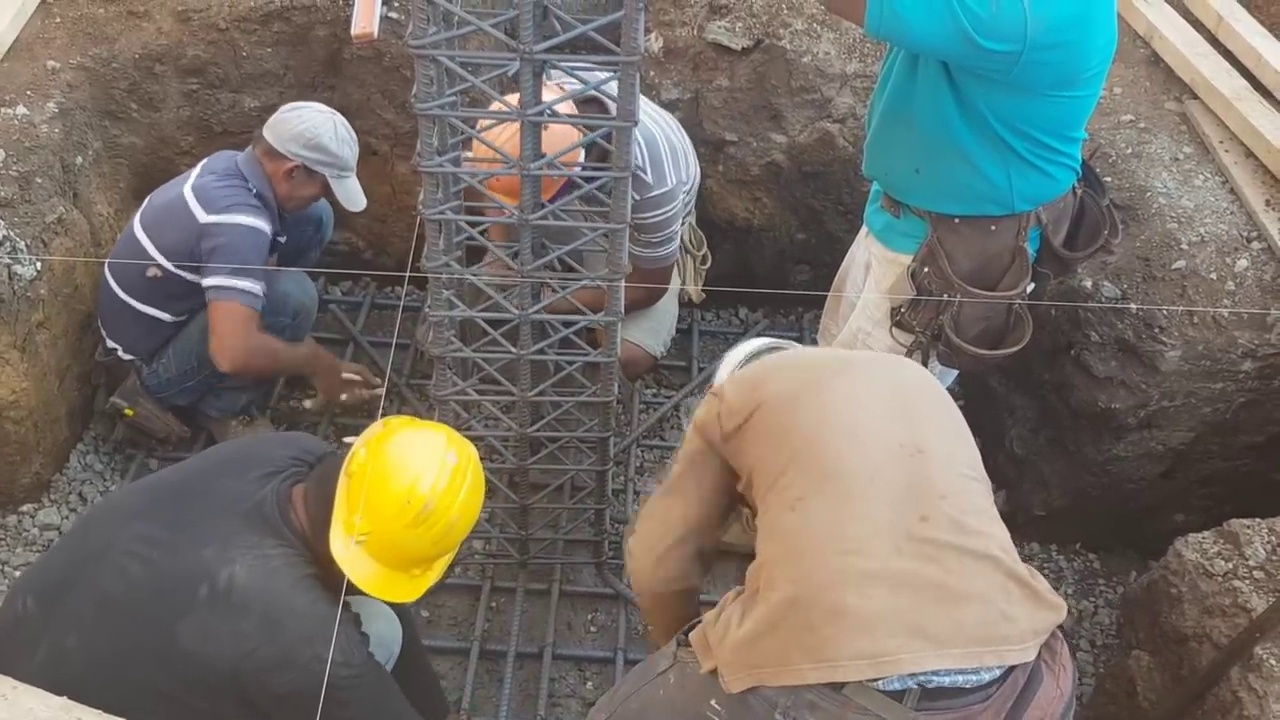helmet: (321, 414, 482, 603), (474, 84, 587, 201)
helmet-off: (254, 99, 365, 222)
helmet-on: (296, 409, 484, 612), (466, 78, 625, 215)
person: (578, 323, 1092, 718), (0, 390, 494, 717), (813, 0, 1133, 378), (97, 86, 379, 441), (465, 72, 693, 357)
